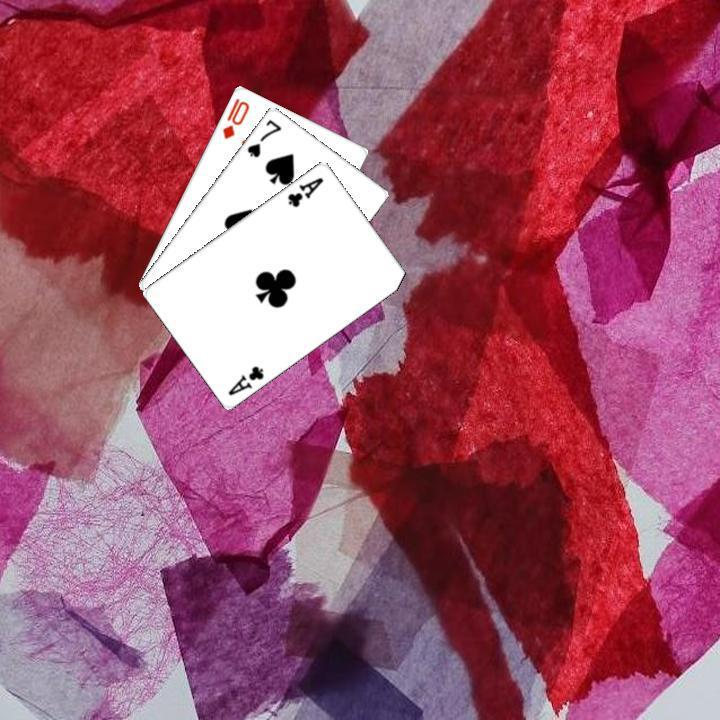10: (218, 93, 251, 141)
7: (242, 114, 283, 159)
A: (283, 172, 326, 209), (224, 361, 266, 397)
